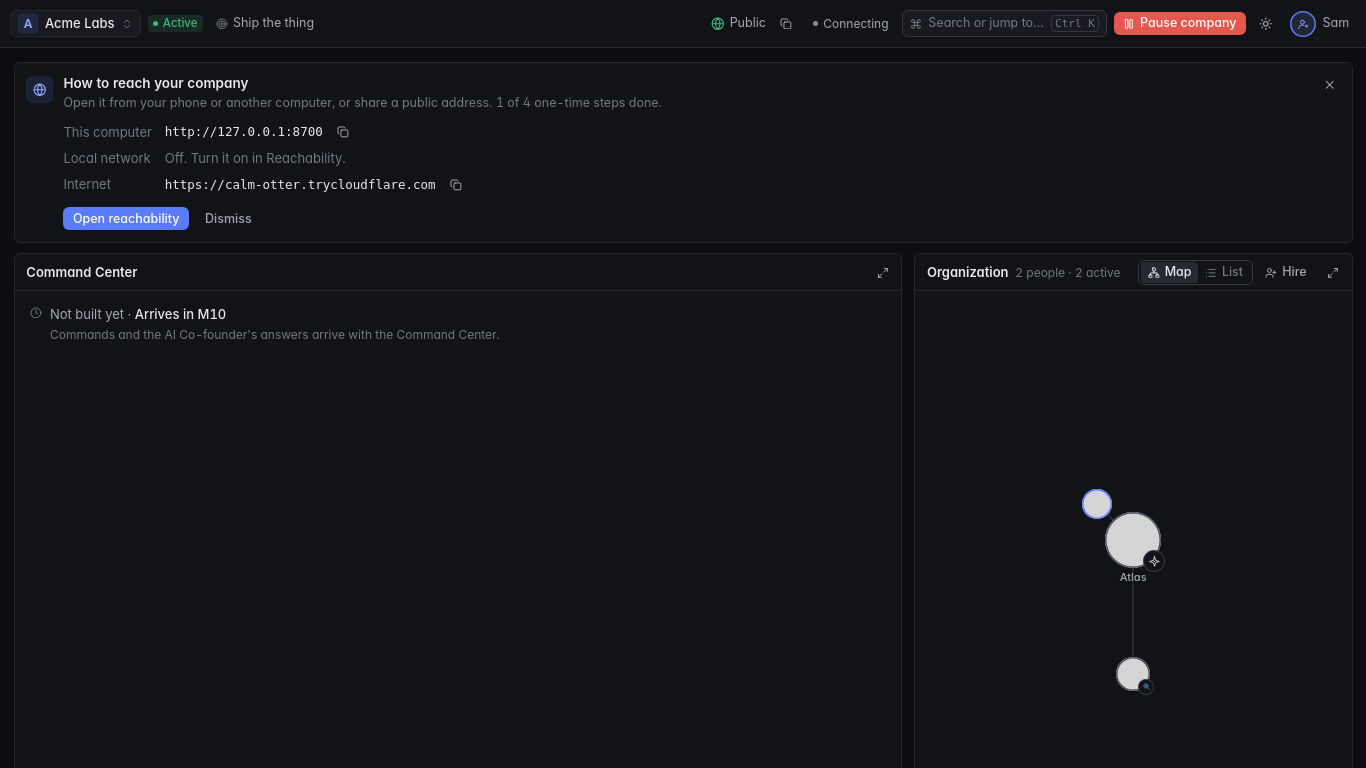
Test: top-bar globe › shows the public state and opens the panel
What coordinates should you click on to do the following:
click the button named "Reachability: Public, https://calm-otter.trycloudflare.com. Open details"
I would click on:
 (738, 24)
Its box is x1=704 y1=10 x2=773 y2=37.
(page scrolled)
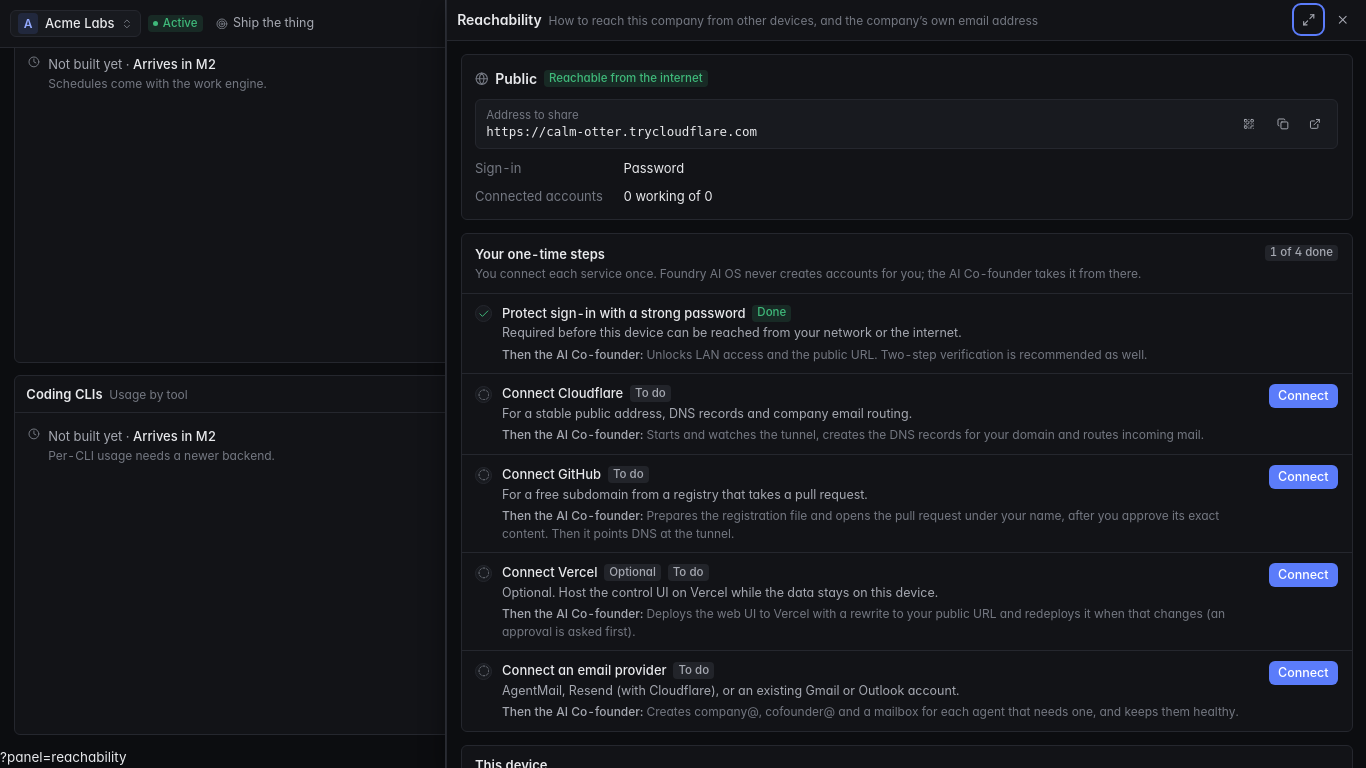
Check: the text with test id "loc" reads "?panel=reachability", box x1=0 y1=749 x2=127 y2=765
